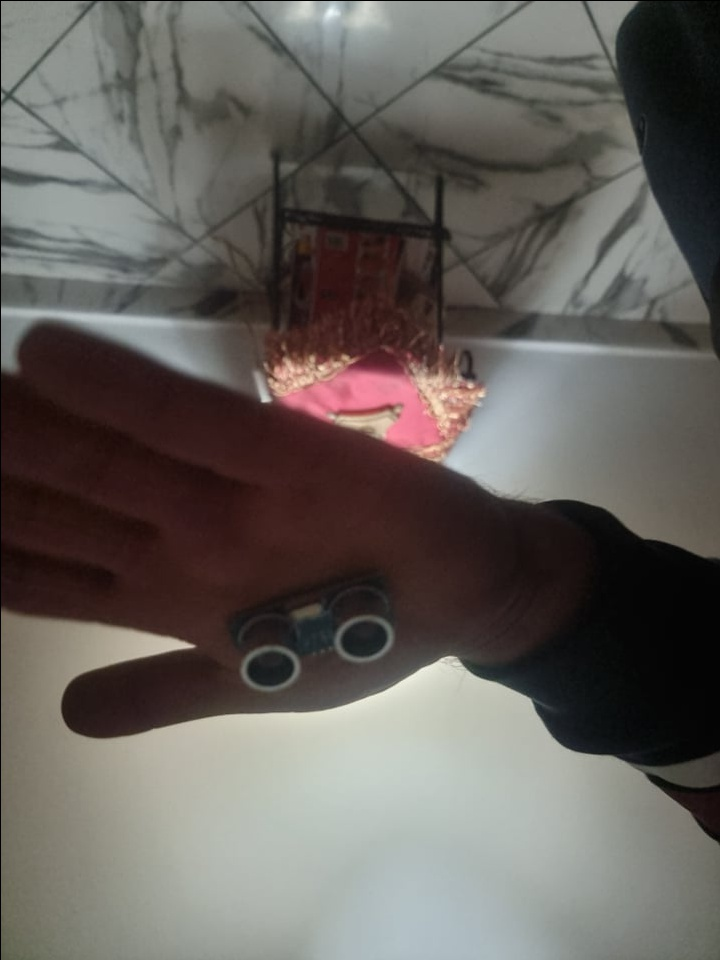SENSOR: (219, 561, 399, 698)
